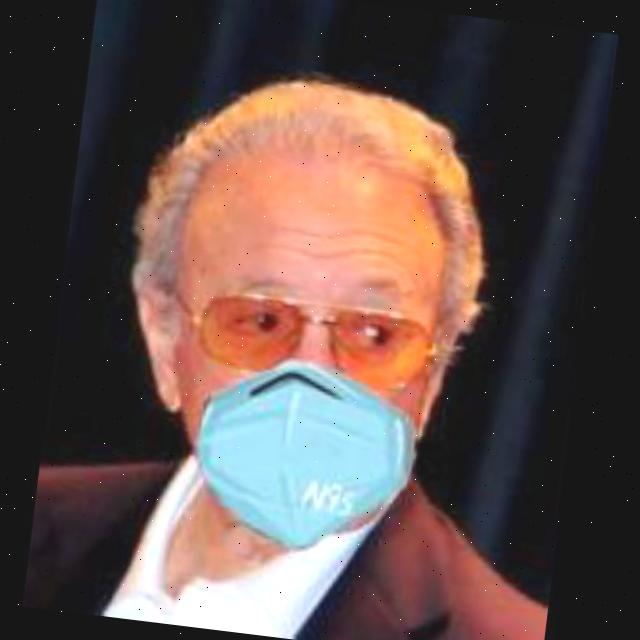suspicion: (138, 81, 520, 532)
